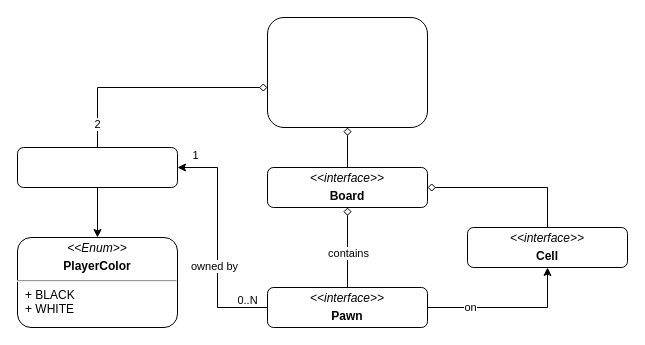
Image size: 645x345. Some labels were removed from this diagram. The centre of each missing label's shape, as x and y in pixels:
"<<interface>> Game + players: Seq[Player] + board: Board" goes at point 347,72.
"<<interface>> Player" goes at point 97,167.
